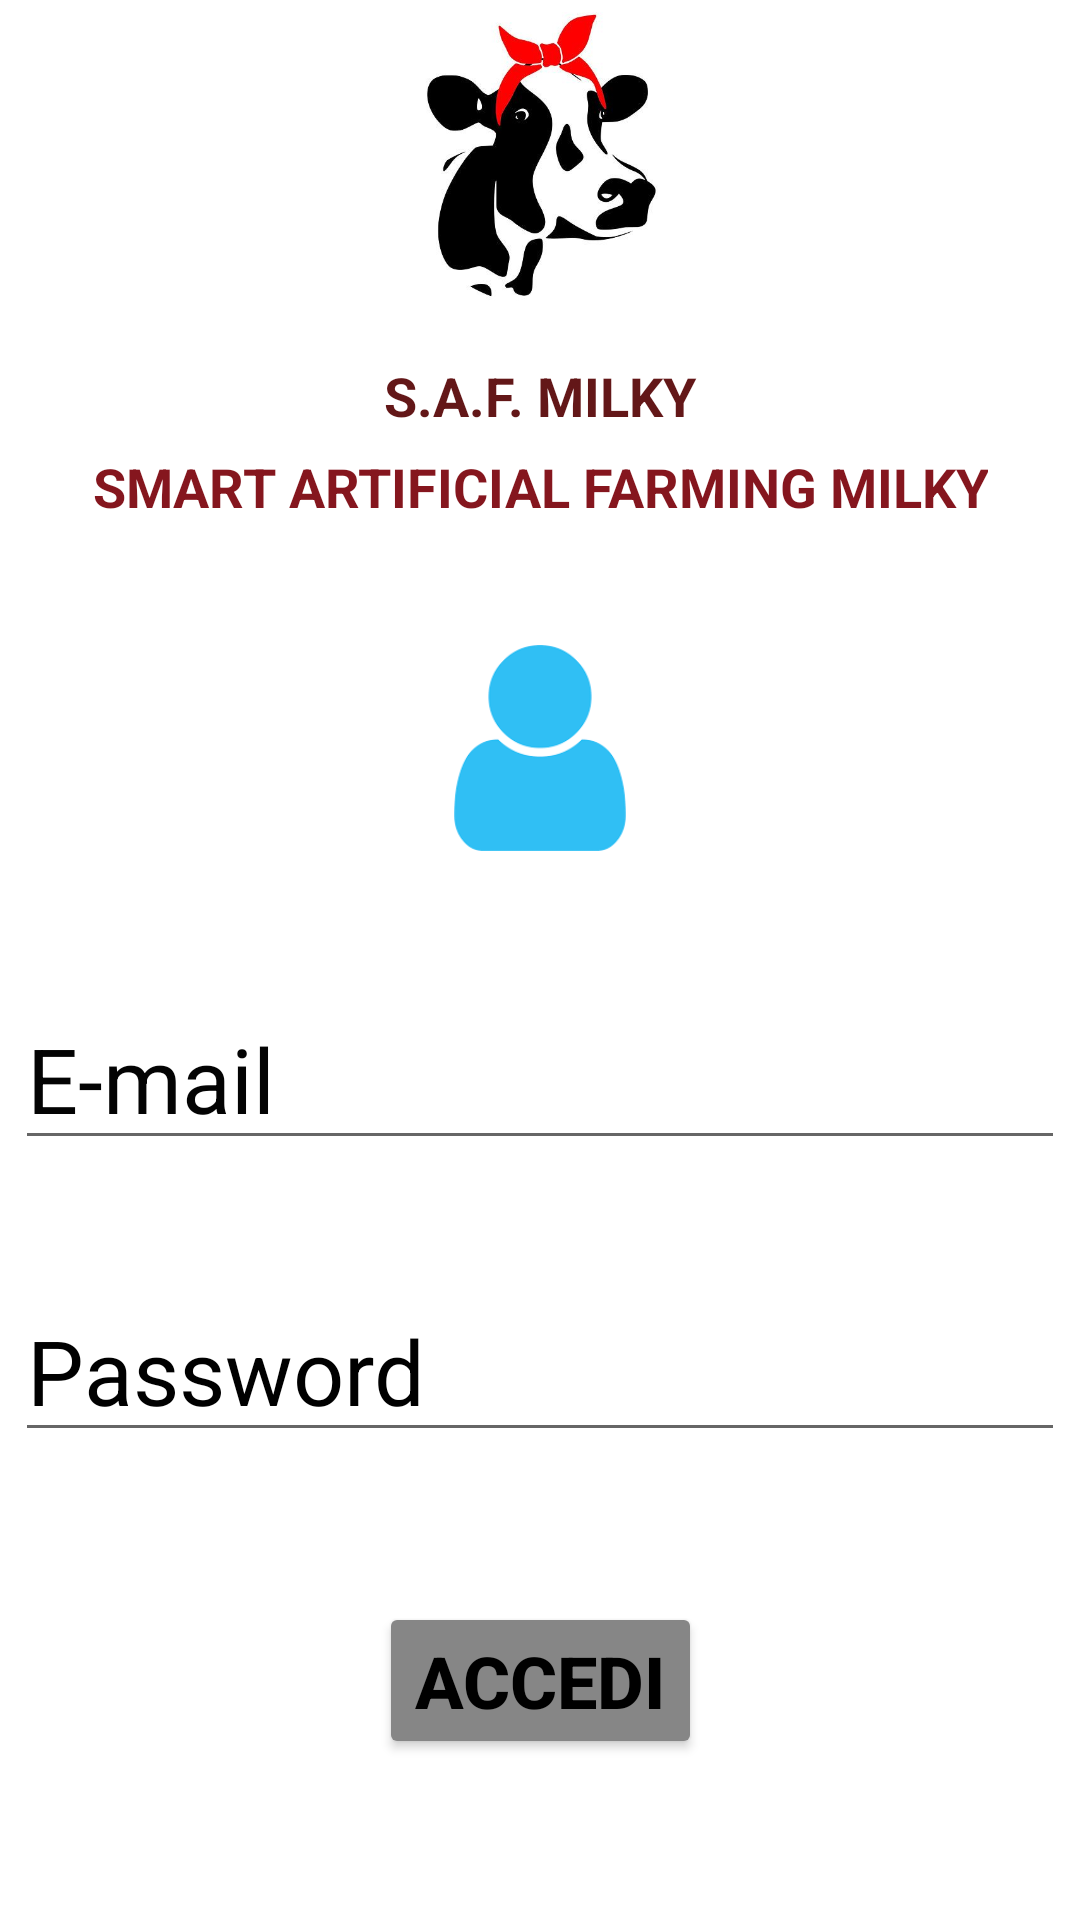

Icon bounding boxes for this 1080px x 1920px phone screenshot, format {"x1": x1, "y1": y1, "x2": x2, "y2": y2}:
user: {"x1": 454, "y1": 645, "x2": 626, "y2": 851}
